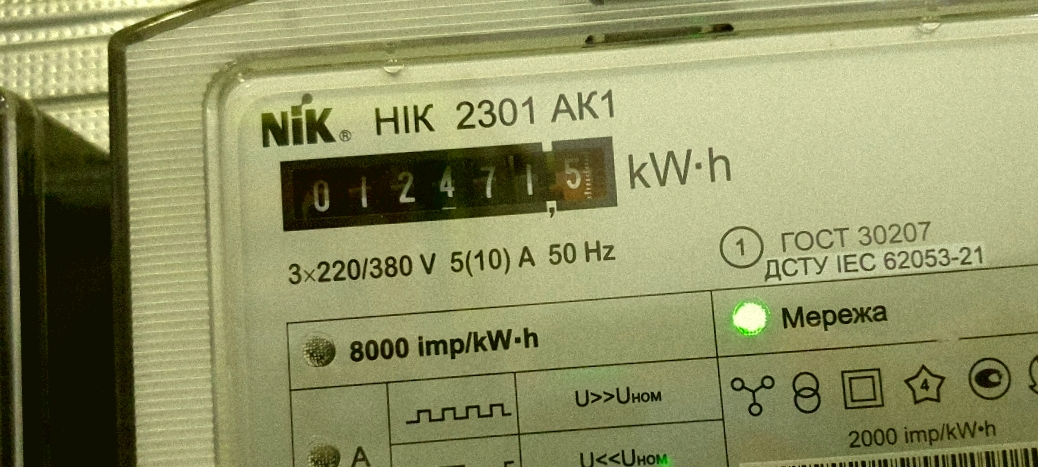0: (308, 176, 333, 213)
1: (522, 160, 535, 197), (357, 173, 370, 209)
2: (395, 168, 418, 205)
4: (436, 162, 457, 200)
5: (561, 152, 585, 191)
7: (476, 162, 498, 201)
screen: (268, 126, 630, 241)
